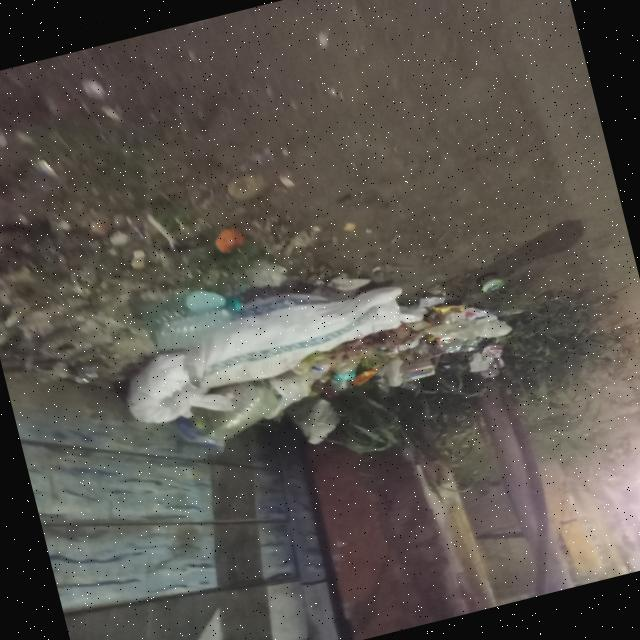garbage: (116, 221, 543, 494)
